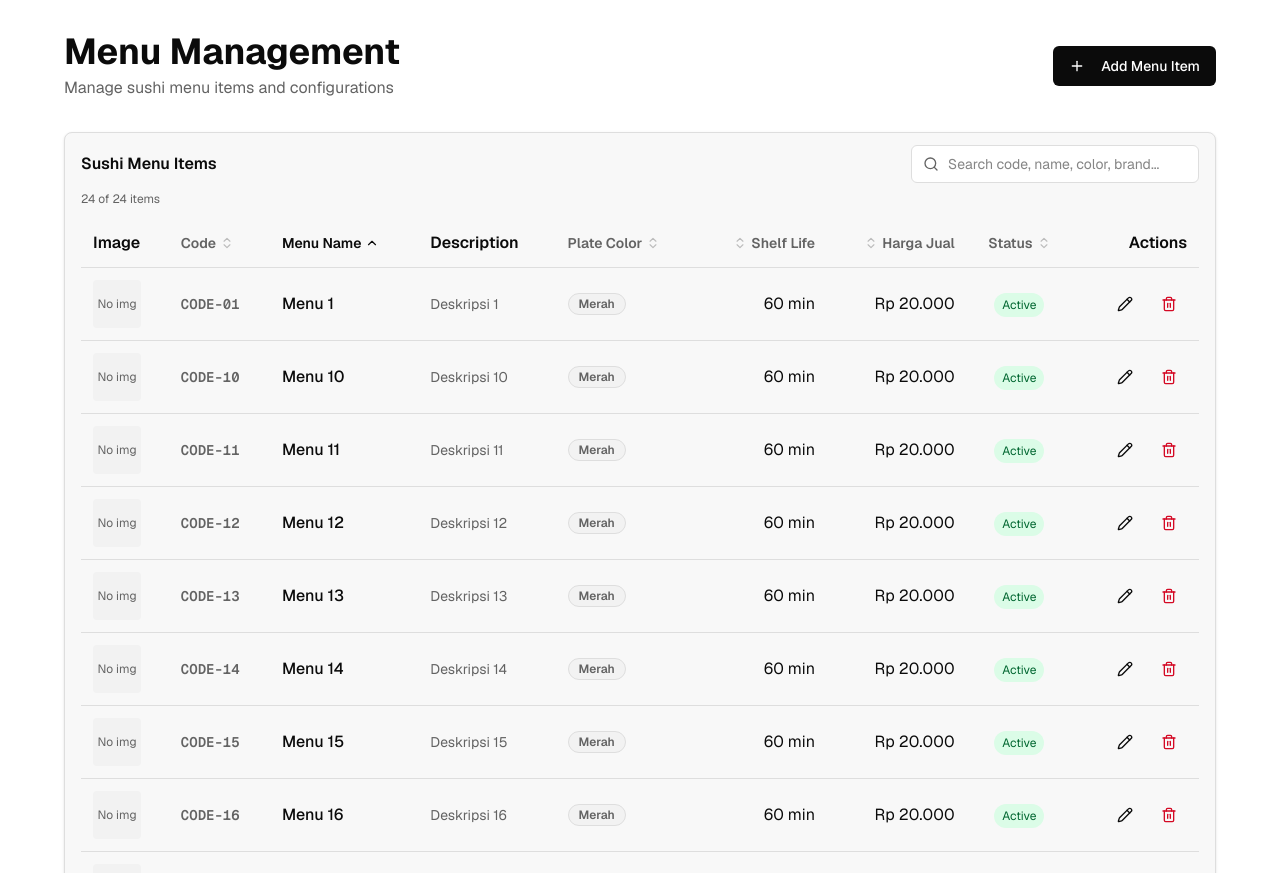
Test case: MenusAdmin — duplicate code check › catches a duplicate code that lives past the first backend page
The width and height of the screenshot is (1280, 873).
Click the button "Add Menu Item": (1135, 66) [1053,46,1216,86]
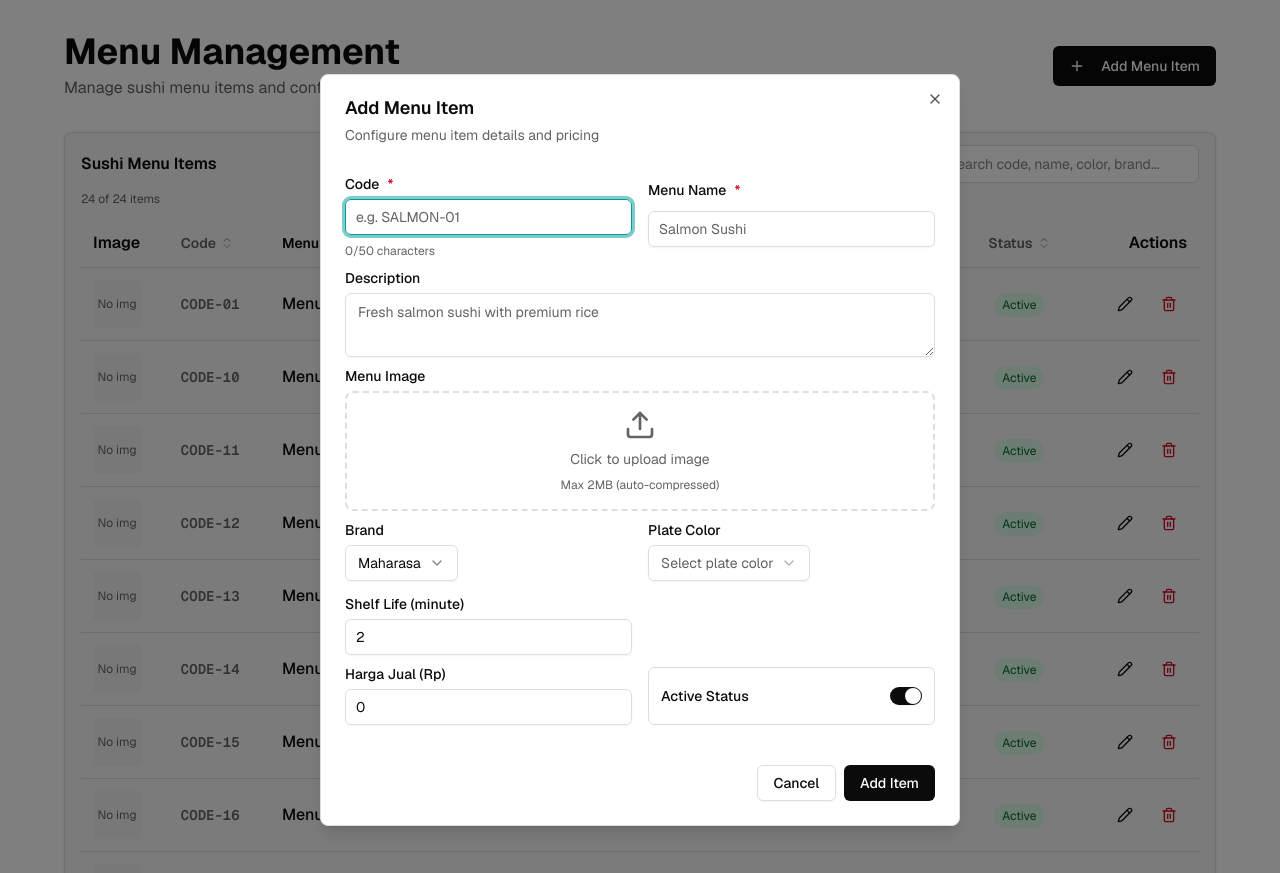
In the field labelled "Code *": (488, 217) [345,199,632,235], type "CODE-20"
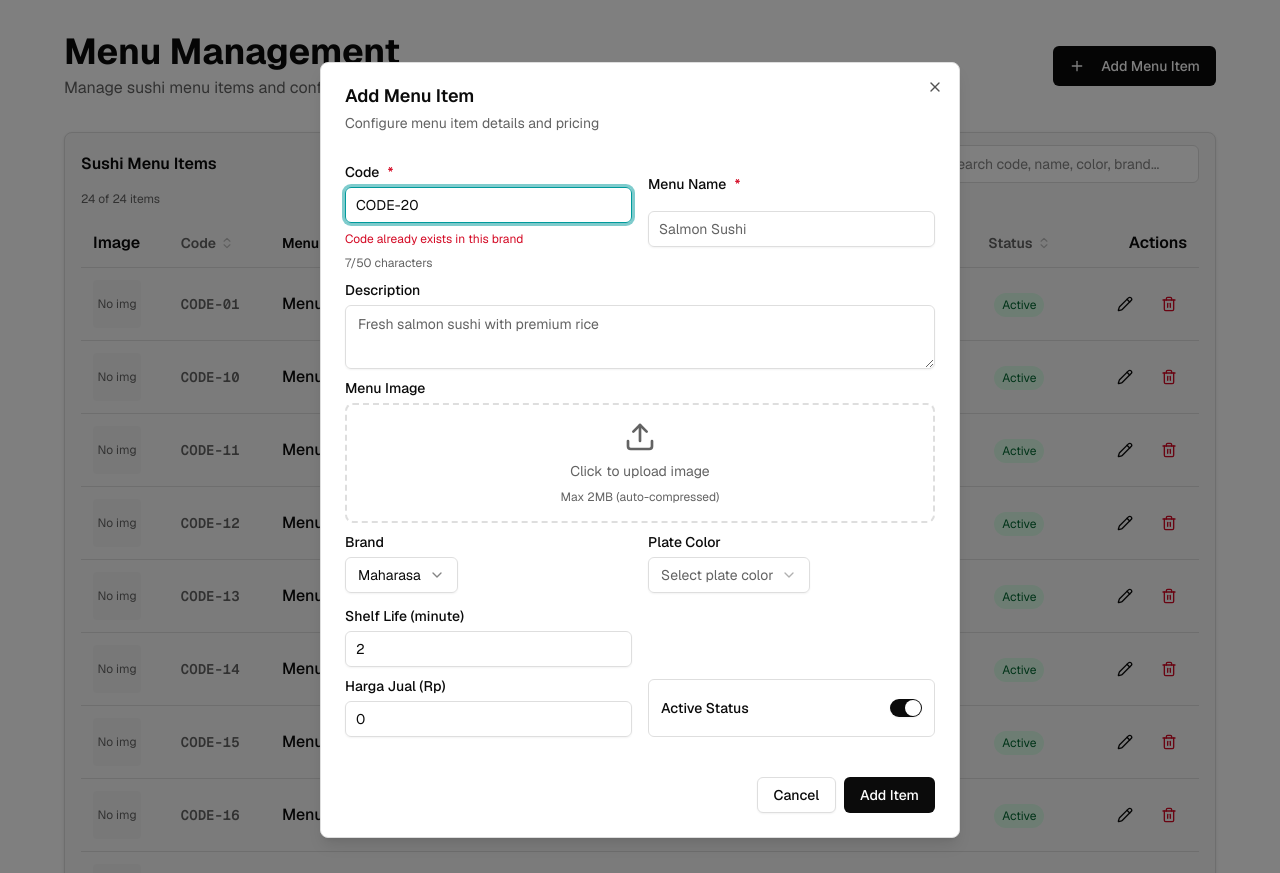
Result: the text "Code already exists in this brand" is shown at [345,231,523,247]
